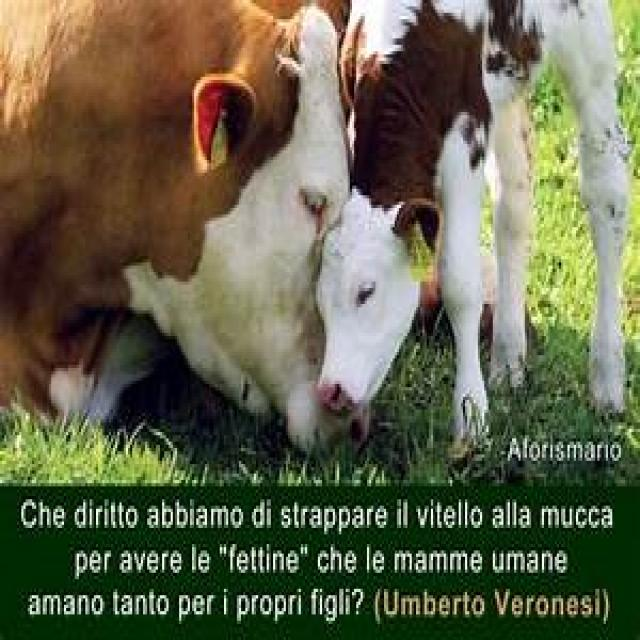cow: (0, 2, 349, 447), (316, 0, 629, 449)
